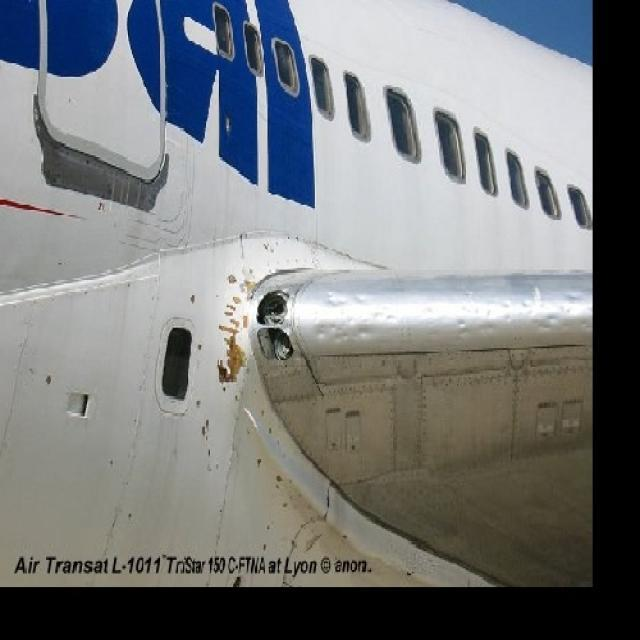dent: (453, 284, 603, 342), (354, 319, 378, 341), (326, 290, 348, 311)
